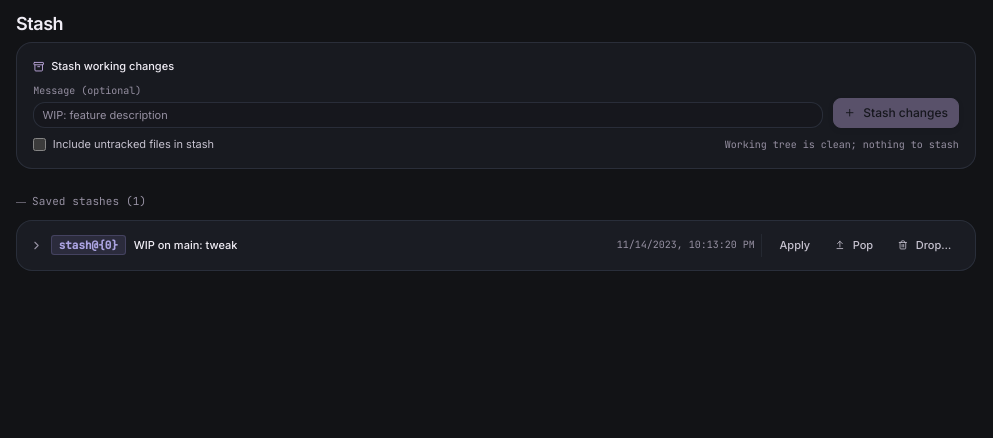
Test case: the stash list › shows a stashed file's diff only when it is opened
The image size is (993, 438).
Click the button "stash@{0} WIP on main: tweak". click: [88, 245]
box: [30,235,607,255]
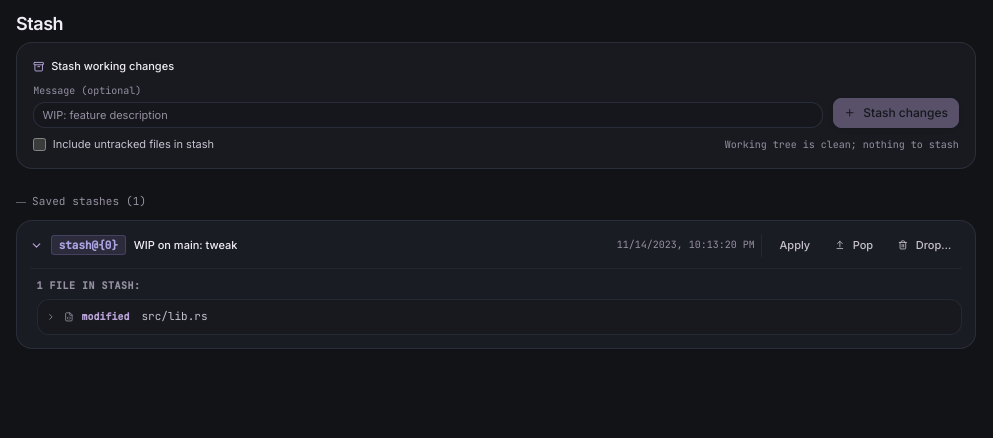
Click the button "modified src/lib.rs". click: [105, 317]
box: [46,309,953,324]
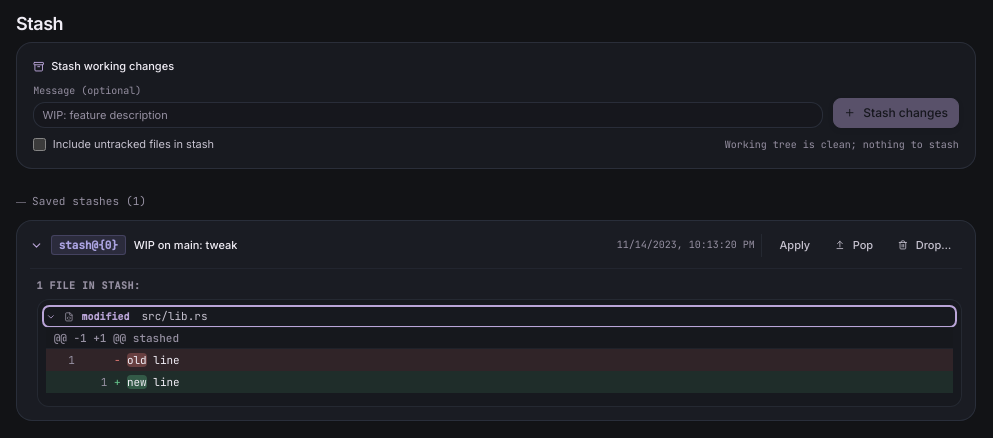
Result: the text "@@ -1 +1 @@ stashed" is shown at [54,331,179,345]
